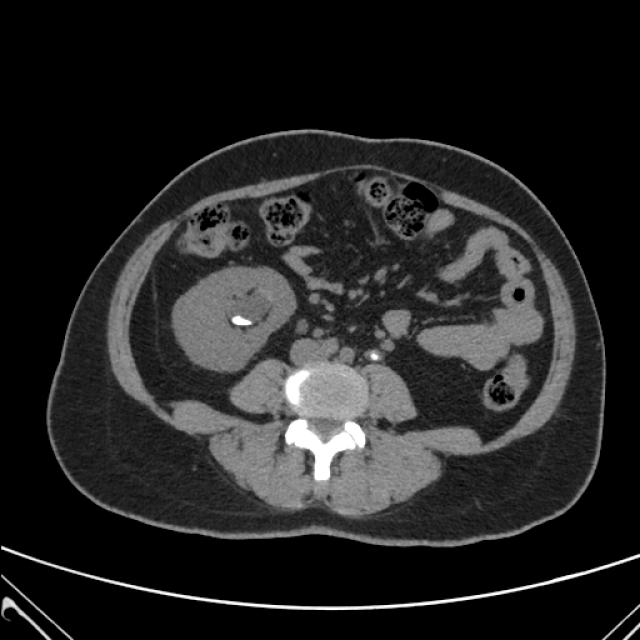kidney: (221, 282, 274, 339)
stone: (233, 317, 252, 325)
